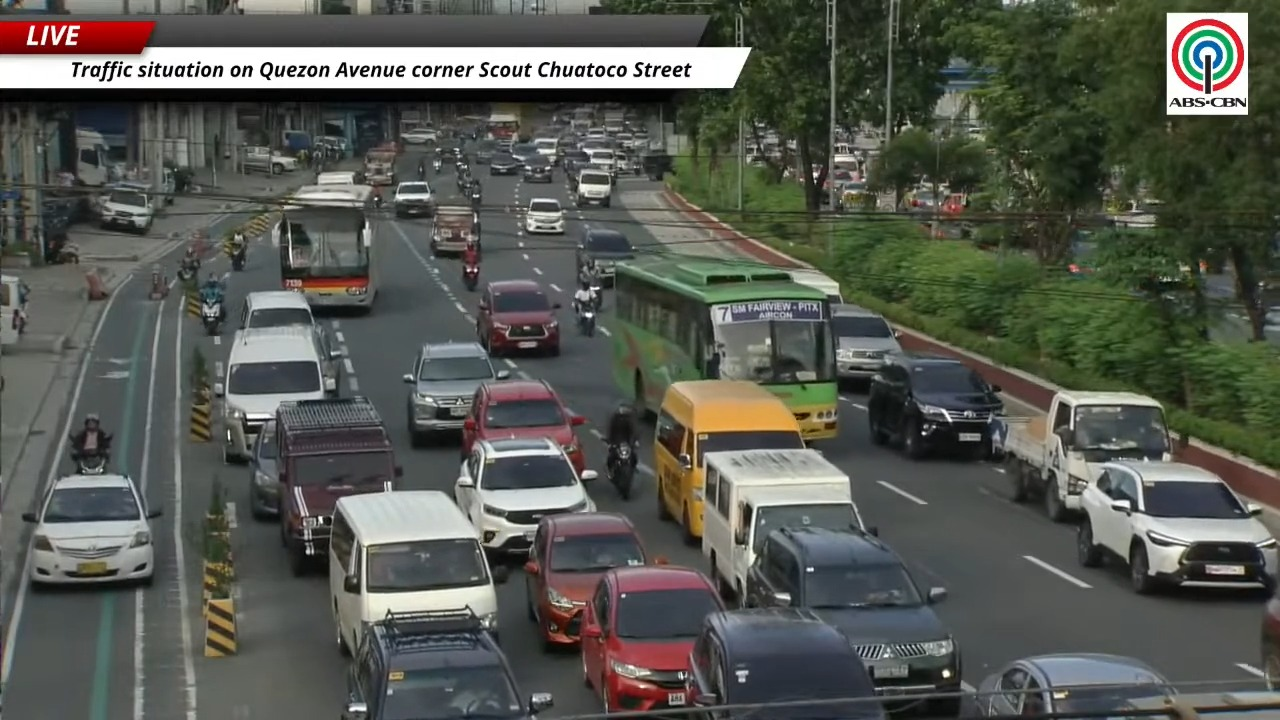bus: (603, 255, 837, 440), (272, 185, 379, 310), (486, 112, 520, 140)
car: (744, 526, 961, 716), (1077, 460, 1276, 593), (669, 608, 886, 719), (342, 608, 551, 719), (581, 565, 724, 712), (453, 436, 595, 556), (524, 512, 647, 646), (22, 474, 160, 585), (868, 353, 1003, 459), (971, 653, 1175, 716), (461, 379, 587, 474), (403, 341, 509, 446), (477, 280, 560, 355), (831, 304, 902, 381), (575, 226, 635, 285), (247, 420, 279, 519), (1176, 690, 1279, 719), (99, 188, 154, 234), (1260, 589, 1280, 691), (573, 166, 612, 207), (524, 198, 565, 234), (393, 182, 435, 217), (523, 154, 552, 182), (562, 148, 589, 177), (488, 152, 522, 175), (400, 127, 437, 144), (510, 144, 538, 164), (473, 140, 496, 164)
motorcycle: (67, 433, 110, 474), (607, 443, 636, 500), (201, 300, 222, 335), (76, 453, 107, 474), (578, 307, 595, 337), (177, 259, 199, 282), (230, 244, 246, 271), (463, 265, 479, 291), (589, 279, 602, 311), (470, 187, 481, 210), (373, 193, 384, 211), (433, 158, 443, 174), (417, 166, 425, 180)
truck: (702, 449, 876, 599), (992, 390, 1172, 521), (274, 397, 402, 575), (429, 205, 479, 256), (75, 127, 113, 186), (364, 146, 397, 185)
